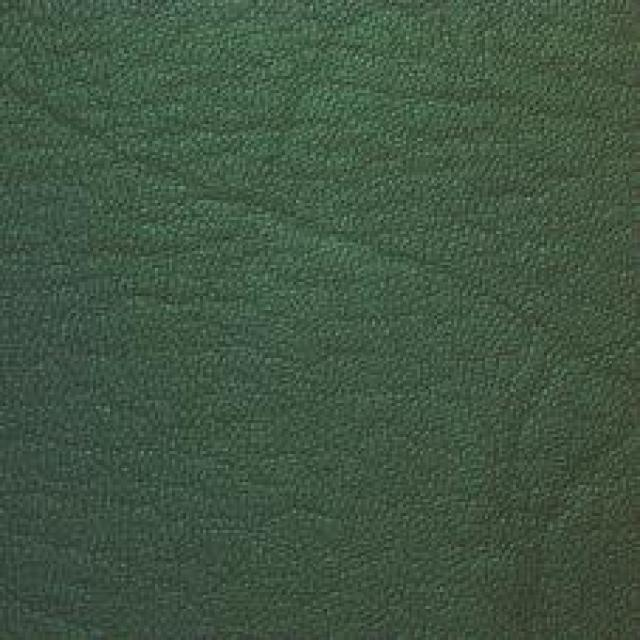Growth Marks: (53, 100, 306, 263), (368, 220, 600, 376)
